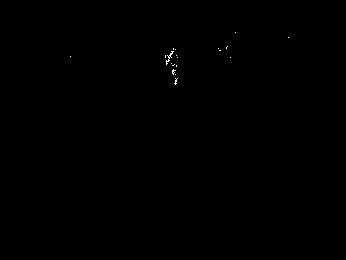person: (167, 47, 181, 85)
